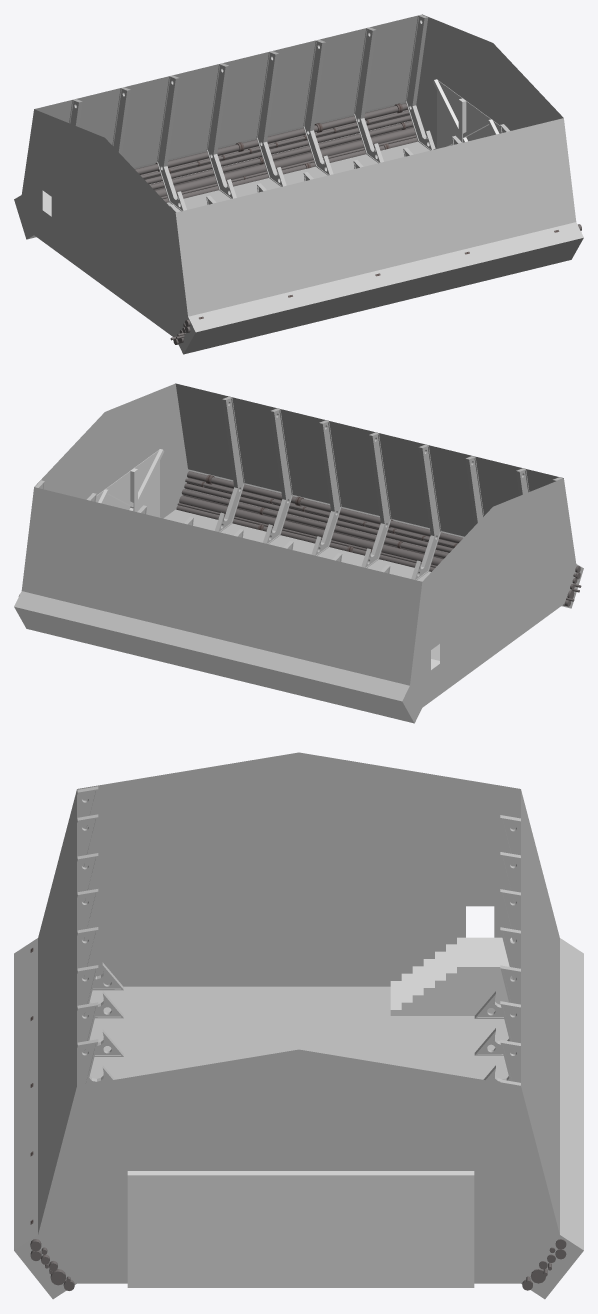
The model's file is Hangar.FBX.
3 views of the same model, one above another, from view 1: azimuth 30°, elevation 25°; view 2: azimuth 150°, elevation 25°; view 3: azimuth 270°, elevation 25° (orthographic). The views are drawn at different scales.
Parts seen in each view (by area): view 1: Plane001, Cylinder012, LeftDoor, Object007, Object005, Object006, Object009, Object004, Object008, Object003, Cylinder057; view 2: Plane001, Cylinder012, RightDoor, Object013, Object012, Object010, Object011, Object014, Object015; view 3: Plane001, LeftDoor, RightDoor, Box002, Cylinder012, Object016, Object015, Object003, Object002, Object017, Object014, Object004 (+1 smaller).
Part boxes in pixels (x1=…): Plane001: x1=14, y1=14, x2=583, y2=354; Cylinder012: x1=135, y1=103, x2=581, y2=344; LeftDoor: x1=433, y1=79, x2=491, y2=149; Object007: x1=303, y1=39, x2=333, y2=175; Object005: x1=206, y1=63, x2=236, y2=198; Object006: x1=256, y1=51, x2=286, y2=186; Object009: x1=405, y1=14, x2=435, y2=150; Object004: x1=157, y1=75, x2=186, y2=211; Object008: x1=354, y1=27, x2=383, y2=163; Object003: x1=112, y1=87, x2=130, y2=155; Cylinder057: x1=155, y1=103, x2=559, y2=319; Plane001: x1=14, y1=383, x2=583, y2=723; Cylinder012: x1=18, y1=471, x2=581, y2=606; RightDoor: x1=104, y1=449, x2=164, y2=517; Object013: x1=361, y1=432, x2=391, y2=567; Object012: x1=311, y1=420, x2=341, y2=555; Object010: x1=214, y1=396, x2=244, y2=532; Object011: x1=263, y1=408, x2=292, y2=543; Object014: x1=411, y1=444, x2=441, y2=580; Object015: x1=465, y1=456, x2=483, y2=525; Plane001: x1=14, y1=752, x2=583, y2=1299; LeftDoor: x1=301, y1=1171, x2=474, y2=1287; RightDoor: x1=127, y1=1171, x2=300, y2=1287; Box002: x1=390, y1=937, x2=512, y2=1015; Cylinder012: x1=30, y1=1239, x2=566, y2=1290; Object016: x1=77, y1=814, x2=123, y2=1018; Object015: x1=77, y1=853, x2=123, y2=1056; Object003: x1=474, y1=852, x2=520, y2=1055; Object002: x1=474, y1=815, x2=520, y2=1018; Object017: x1=77, y1=786, x2=123, y2=990; Object014: x1=77, y1=889, x2=114, y2=1083; Object004: x1=483, y1=889, x2=520, y2=1082.
Size of the model in its own units: 1222 by 464 by 959.
